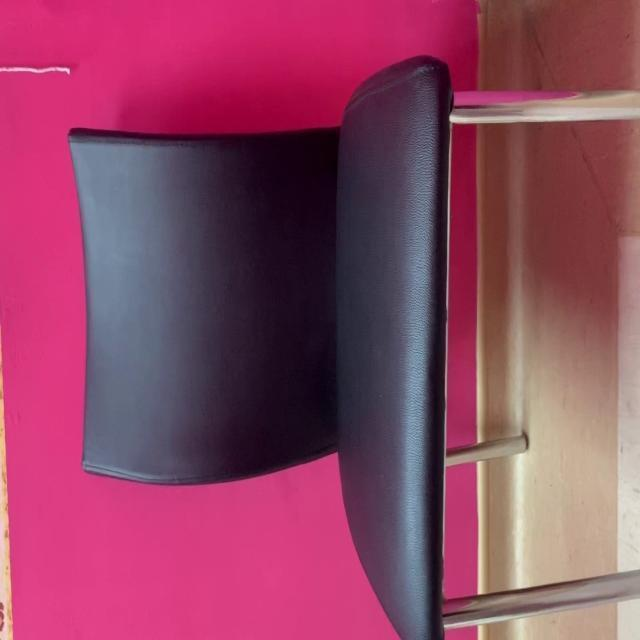chair: (56, 55, 640, 640)
